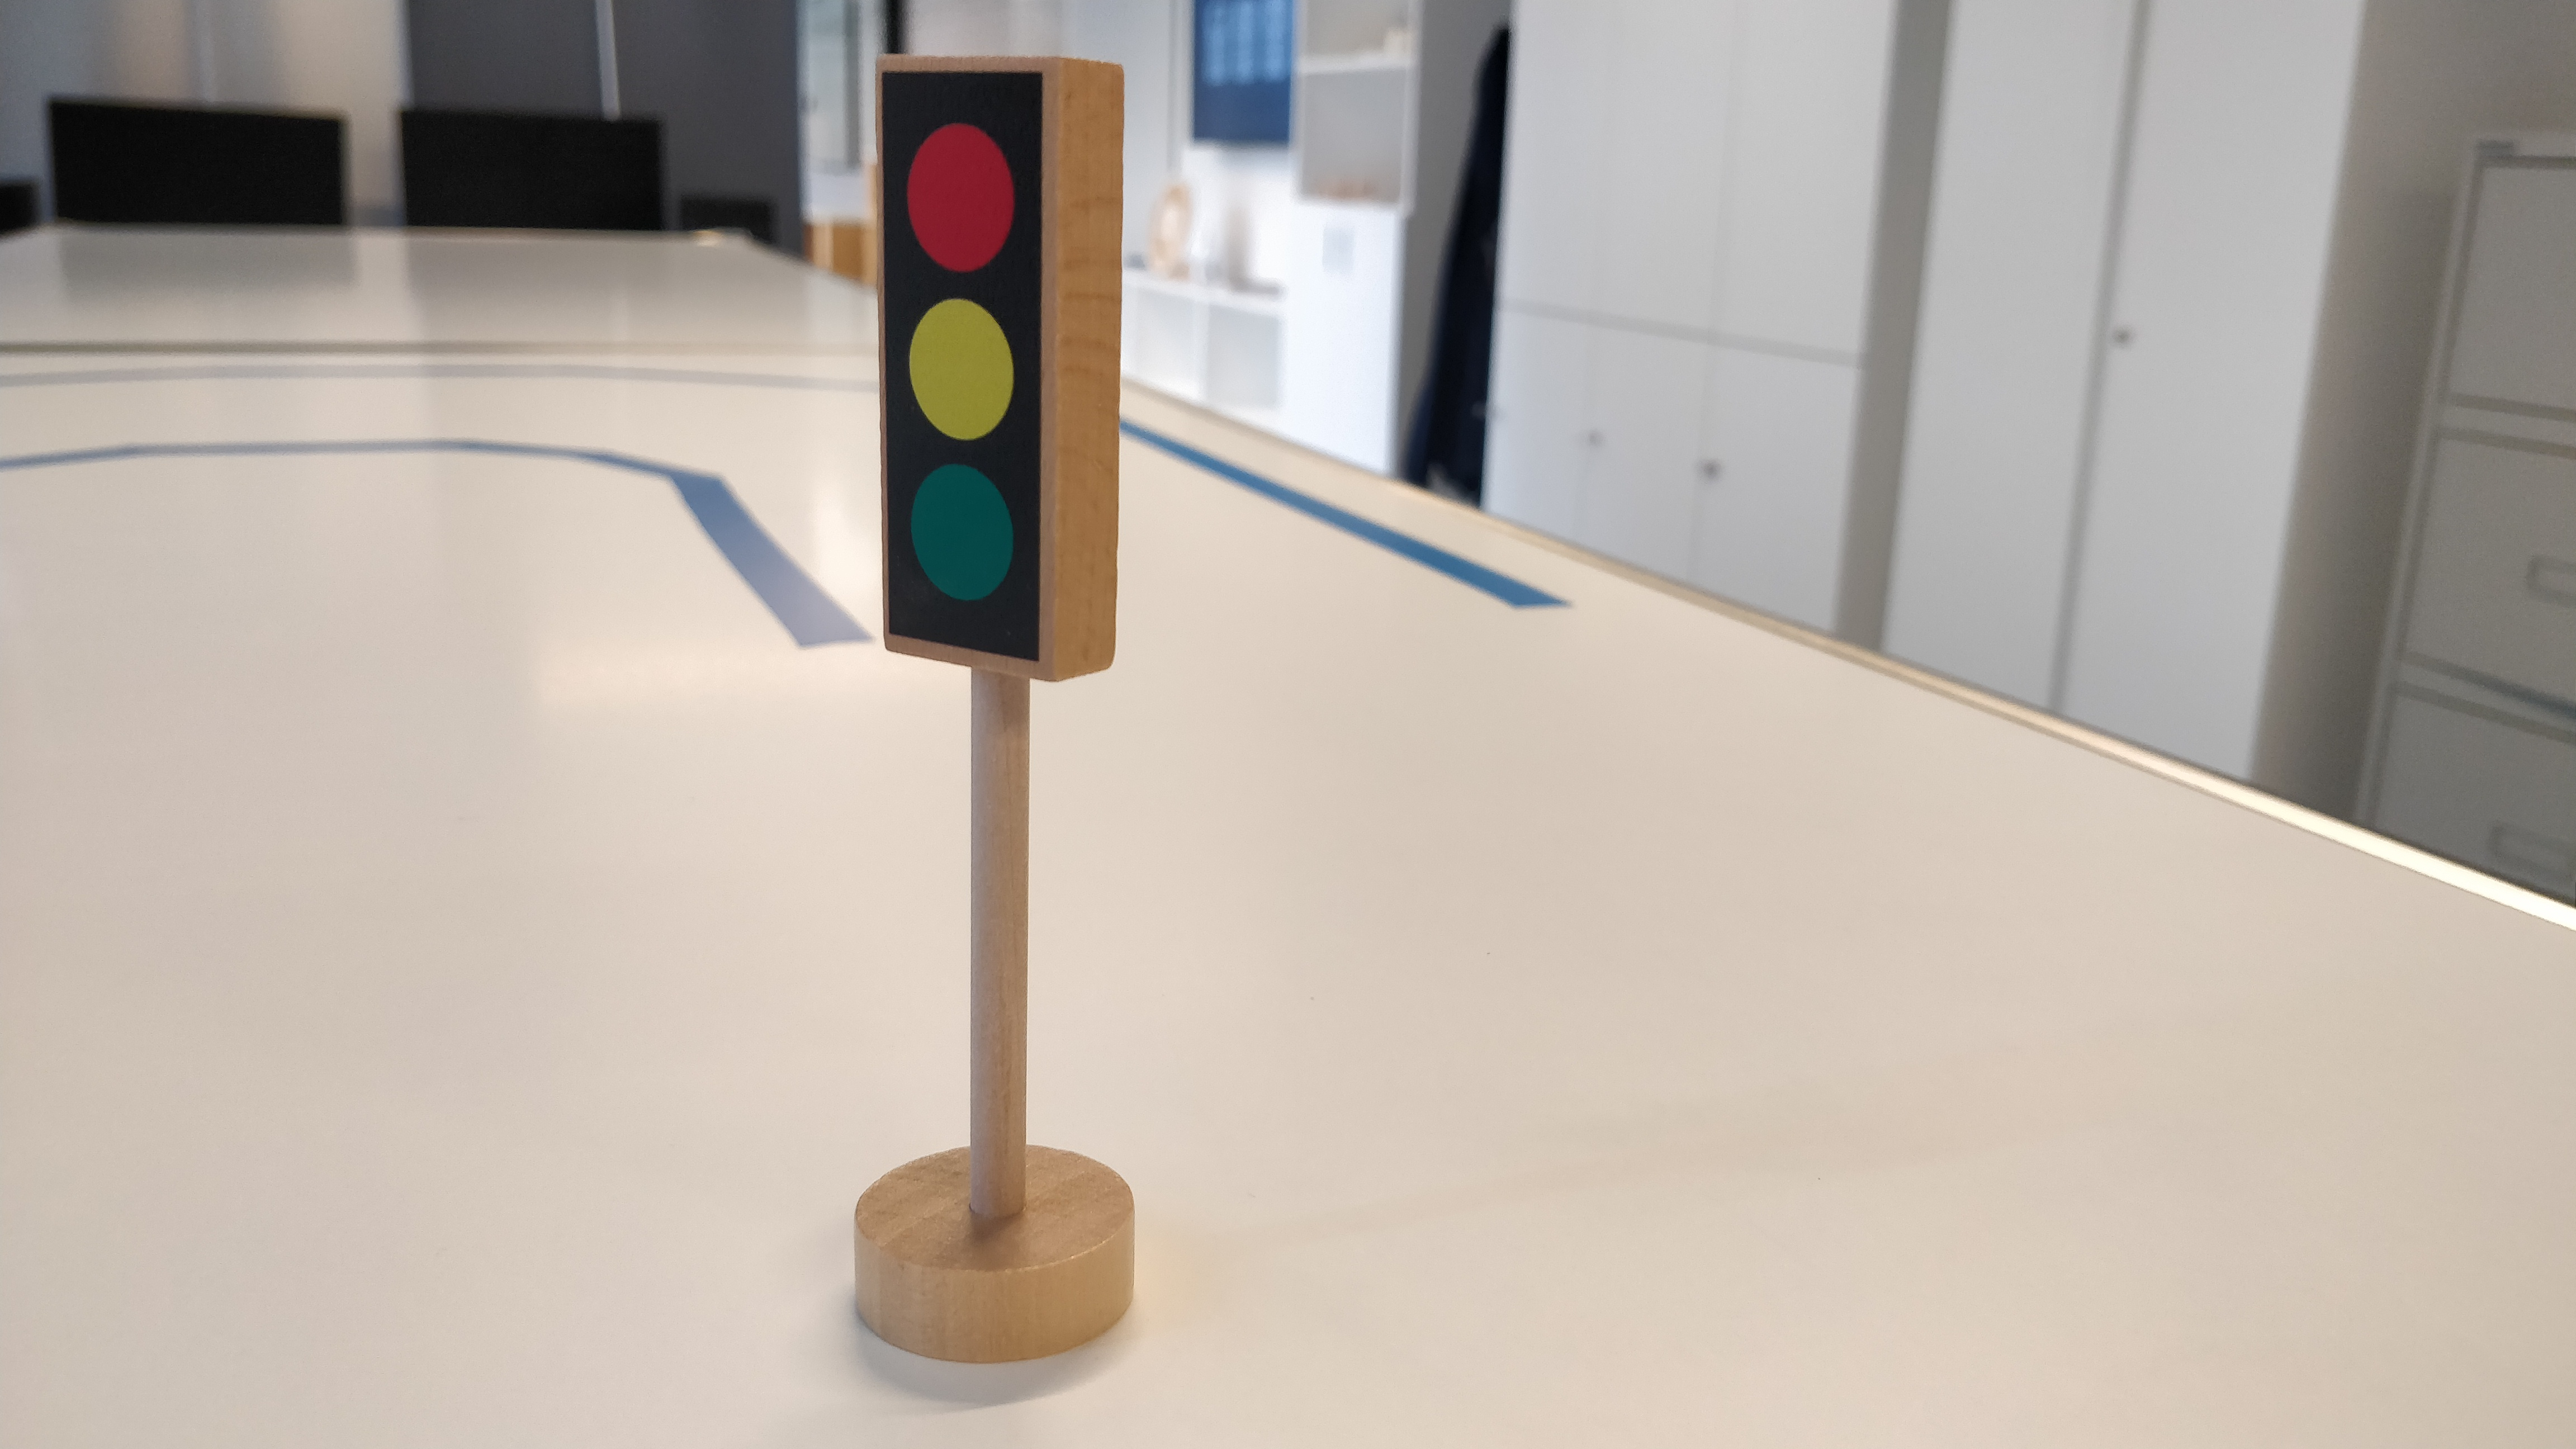Traffic Light: (869, 51, 1132, 690)
